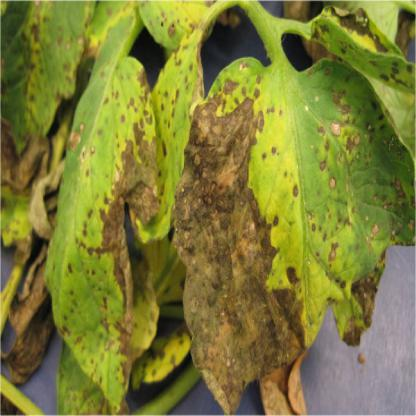Tomato Septoria leaf spot: (177, 53, 415, 415), (47, 27, 154, 400)
